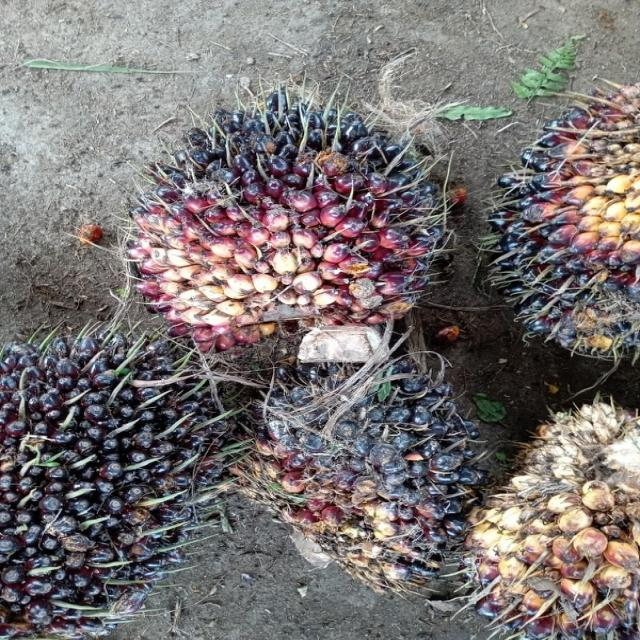fraksi 00: (0, 278, 245, 640)
